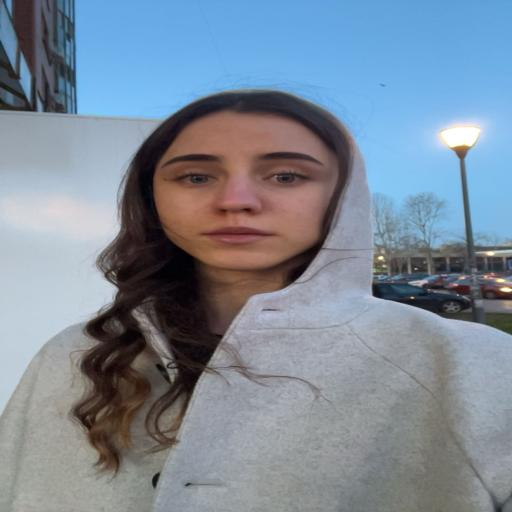masa: (162, 122, 335, 272)
